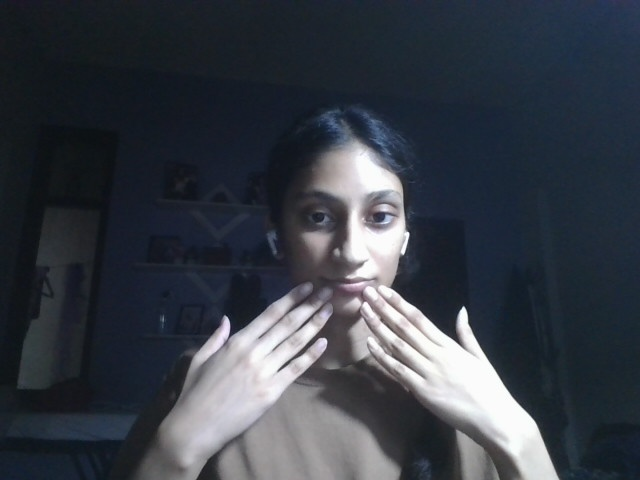thank you: (155, 282, 535, 452)
